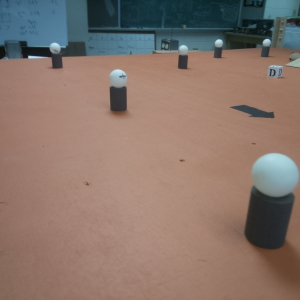obstacle: (248, 152, 294, 253), (109, 69, 130, 111), (49, 42, 62, 66), (177, 45, 188, 68), (214, 38, 223, 57), (262, 38, 271, 56)
